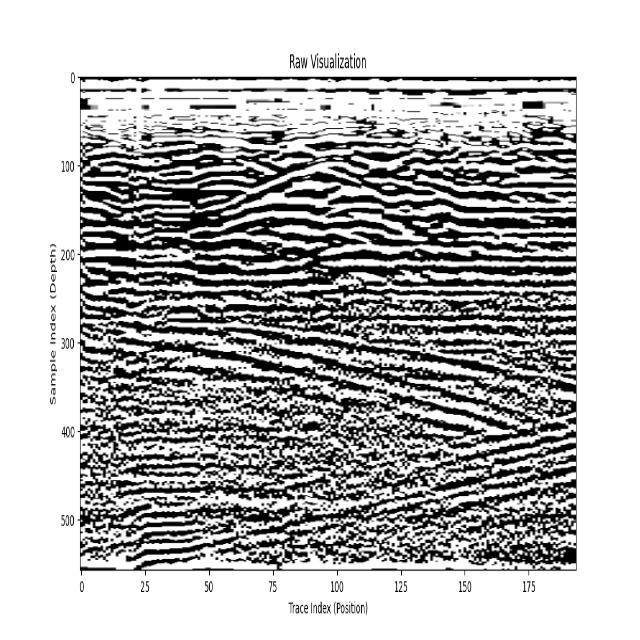anomaly: (81, 300, 575, 564)
